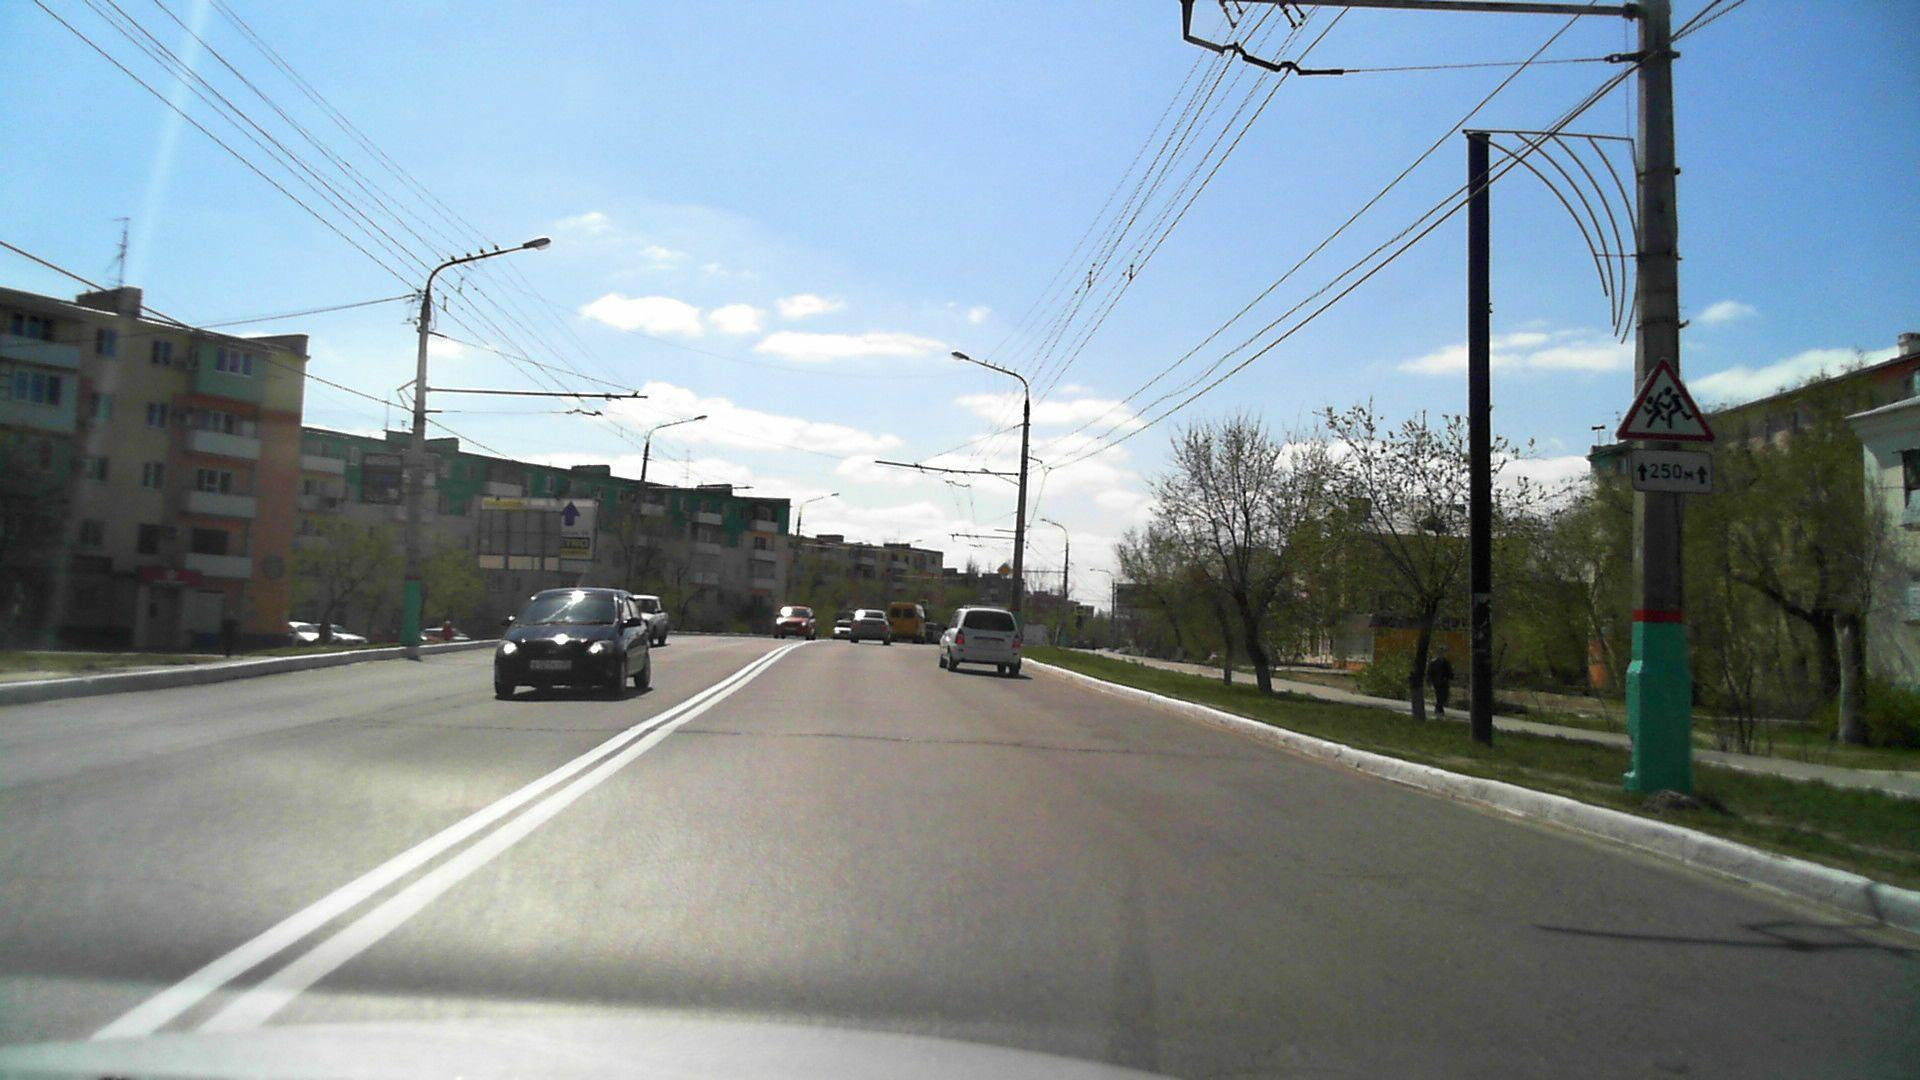1_23: (1617, 356, 1716, 443)
2_1: (997, 560, 1011, 576)
5_19_1: (1076, 605, 1085, 616)
5_19_2: (922, 600, 927, 609)
8_2_1: (1630, 447, 1712, 496)
